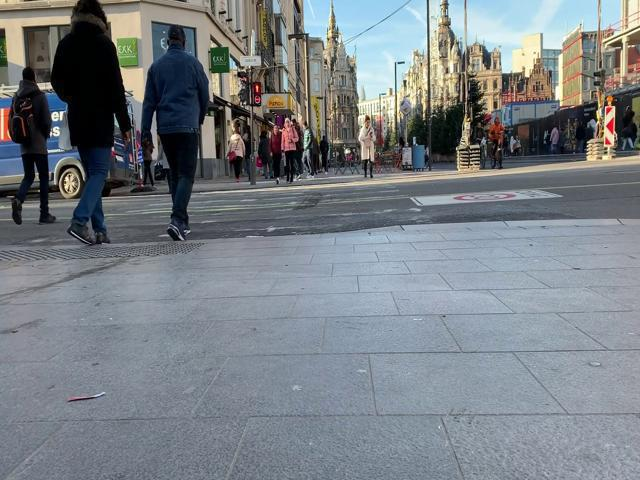shoe: (67, 224, 94, 245), (10, 197, 23, 225), (166, 224, 184, 240), (95, 231, 111, 245), (39, 212, 56, 224)
